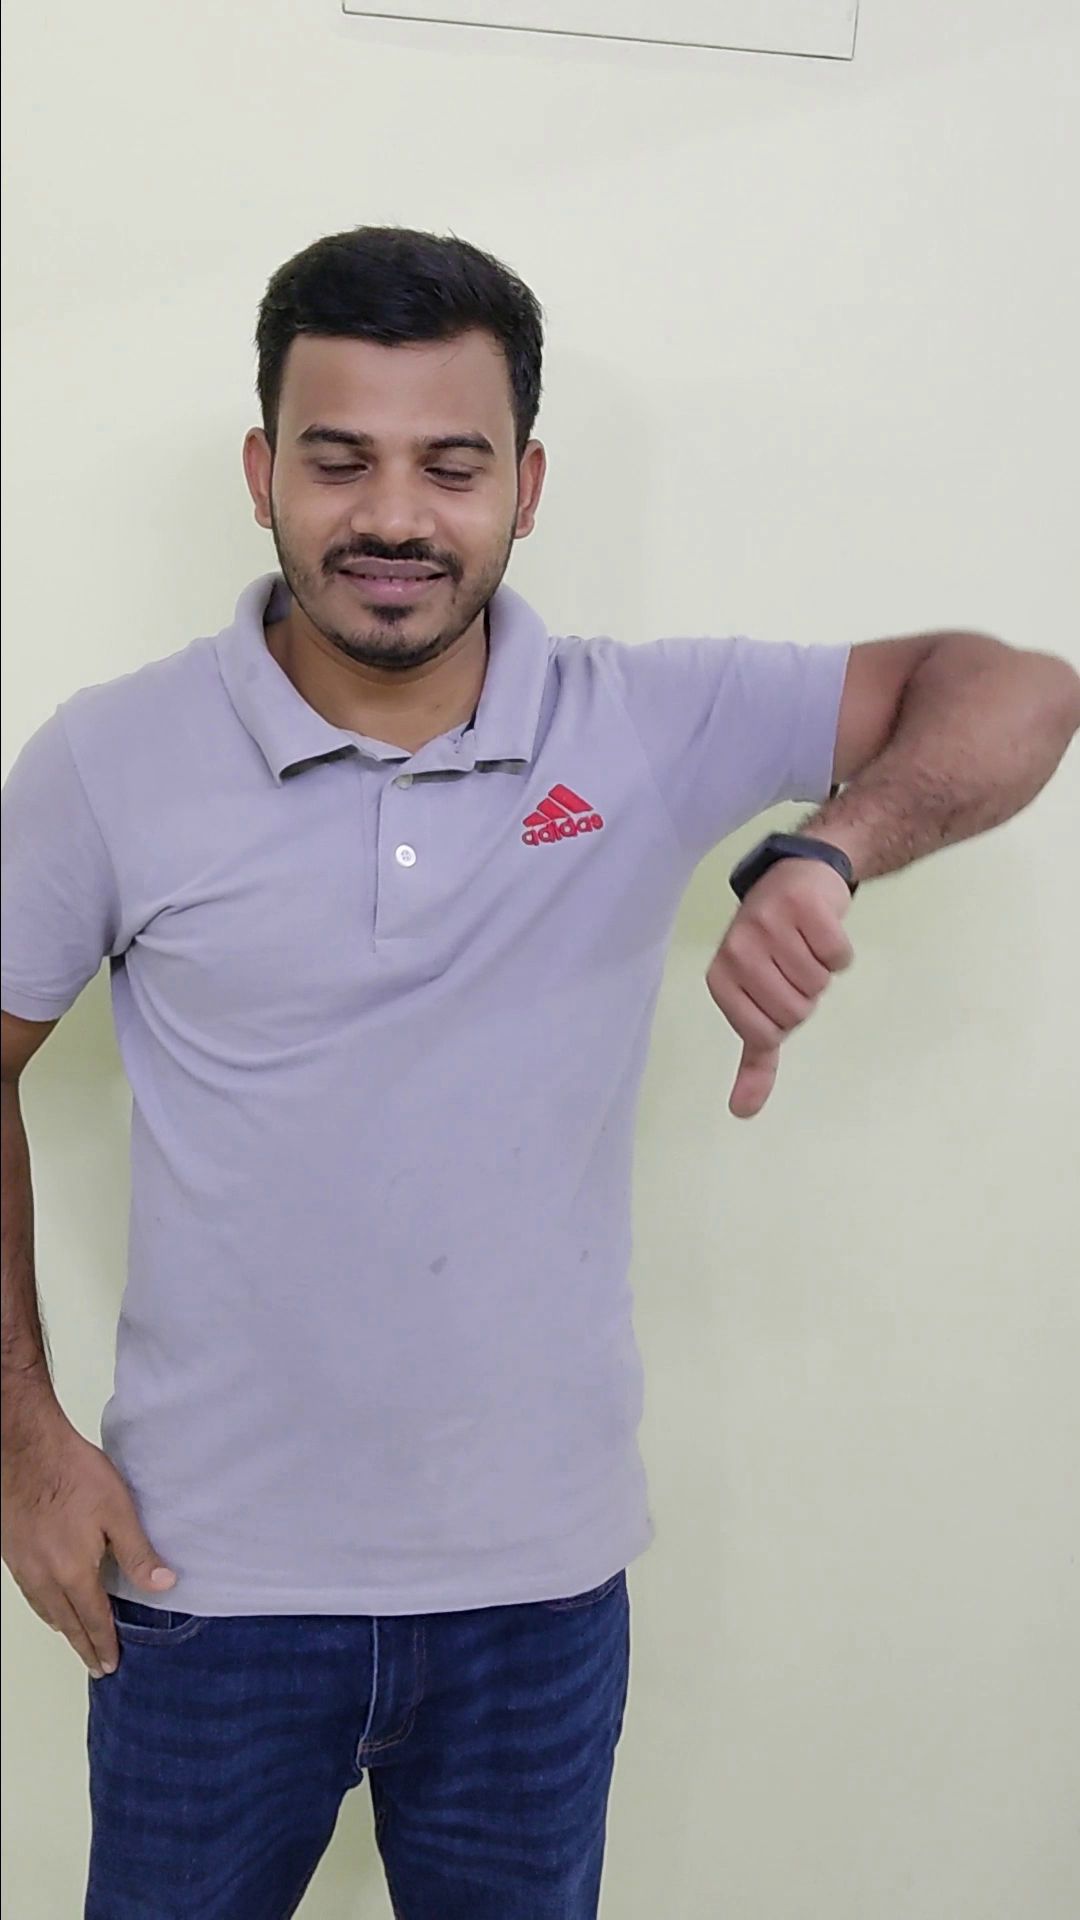Dislike: (651, 816, 903, 1145)
None: (3, 1390, 190, 1681)
